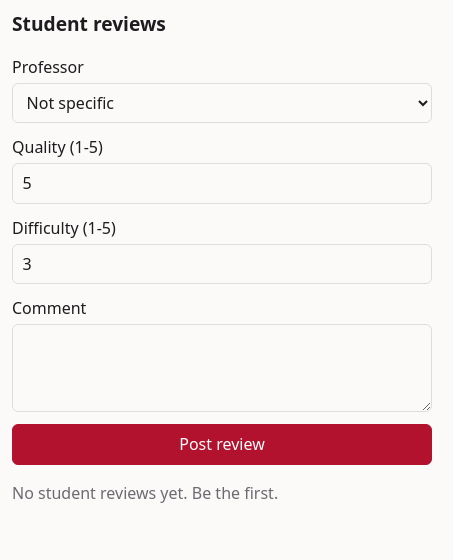
Test case: Reviews › explains a duplicate review
Expected: the text "No student reviews yet. Be the first." is shown, [12, 482, 278, 504]
Click the button "Post review".
click(222, 444)  # box [12, 424, 432, 465]
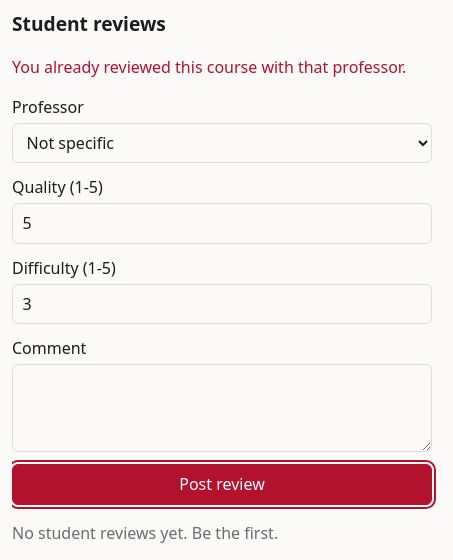
Now the text "You already reviewed this course with that professor." is shown, box [12, 56, 406, 78]
